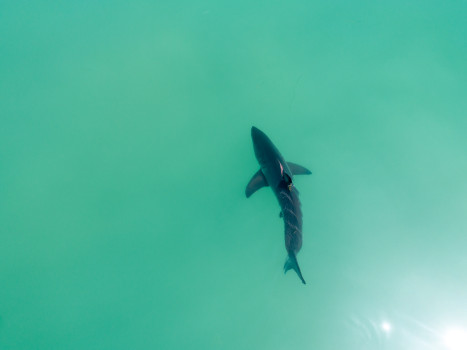shark: (236, 123, 317, 290)
